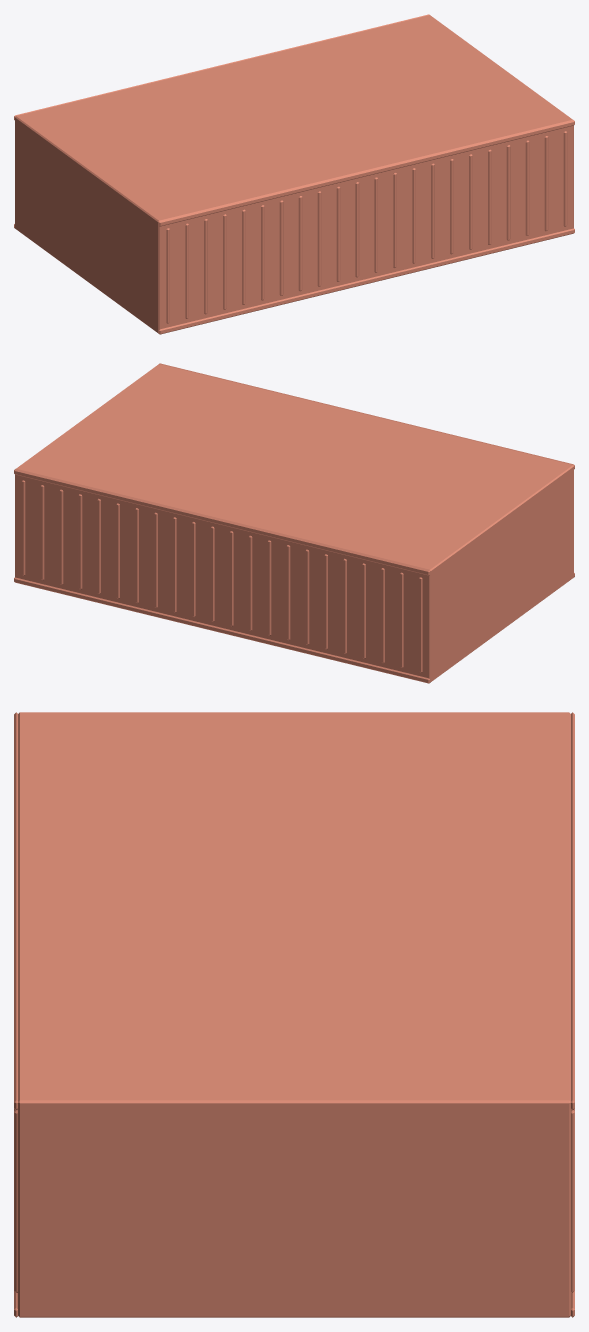
The model's file is SM_Container_10x2p6x6.glb.
3 renders of one model, top to bottom at view 1: azimuth 30°, elevation 25°; view 2: azimuth 150°, elevation 25°; view 3: azimuth 270°, elevation 25°, orthographic. The views are drawn at different scales.
Visible parts, largest first — view 1: SM_Container_10x2p6x6; view 2: SM_Container_10x2p6x6; view 3: SM_Container_10x2p6x6.
Part boxes in pixels (x1,y1,x2,y2): SM_Container_10x2p6x6: (14, 14, 574, 334); SM_Container_10x2p6x6: (14, 363, 574, 683); SM_Container_10x2p6x6: (14, 712, 574, 1317).
Bounding box in the file's own units: 10 × 2.6 × 6.08.
